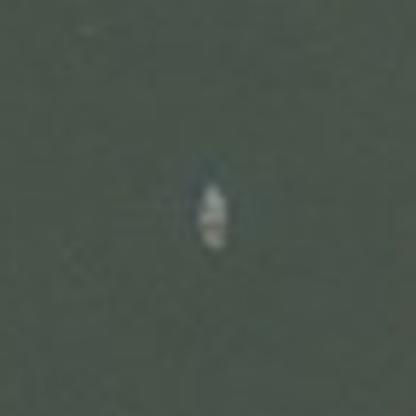ship: (186, 176, 236, 255)
